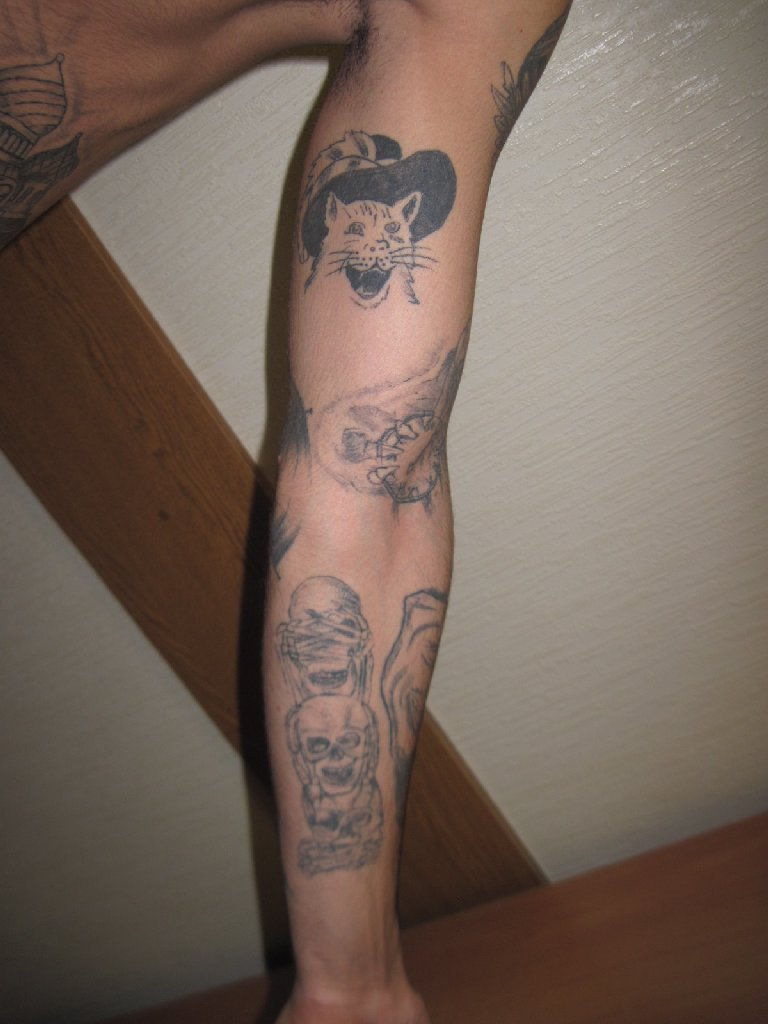tatu8_kot: (286, 115, 474, 317)
